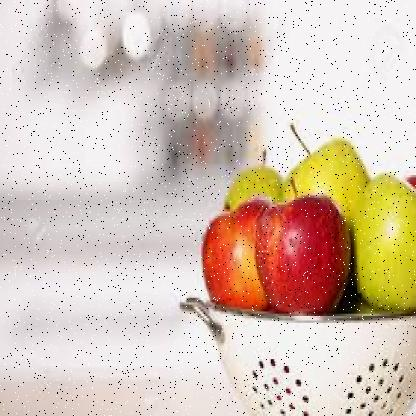apple: (256, 202, 346, 314), (196, 198, 274, 310), (356, 168, 414, 312), (286, 144, 364, 236), (226, 157, 284, 214)
